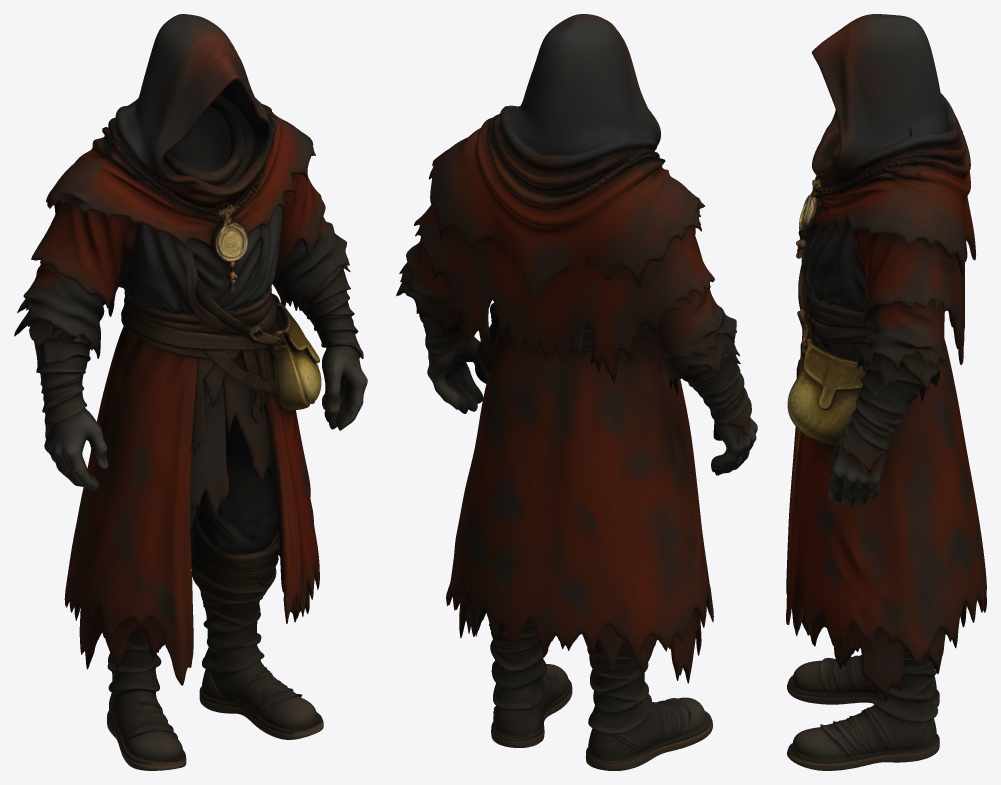
3 views of the same model, side by side, from view 1: azimuth 30°, elevation 25°; view 2: azimuth 150°, elevation 25°; view 3: azimuth 270°, elevation 25° (orthographic). The views are drawn at different scales.
Parts seen in each view (by area): view 1: node_0; view 2: node_0; view 3: node_0.
Part boxes in pixels (bbox=[...]): node_0: bbox=[14, 14, 367, 770]; node_0: bbox=[396, 14, 757, 770]; node_0: bbox=[786, 14, 986, 770].
Bounding box in the file's own units: 0.5406 × 1.15 × 0.2938.
Materials: 1 (1 with a texture image).
